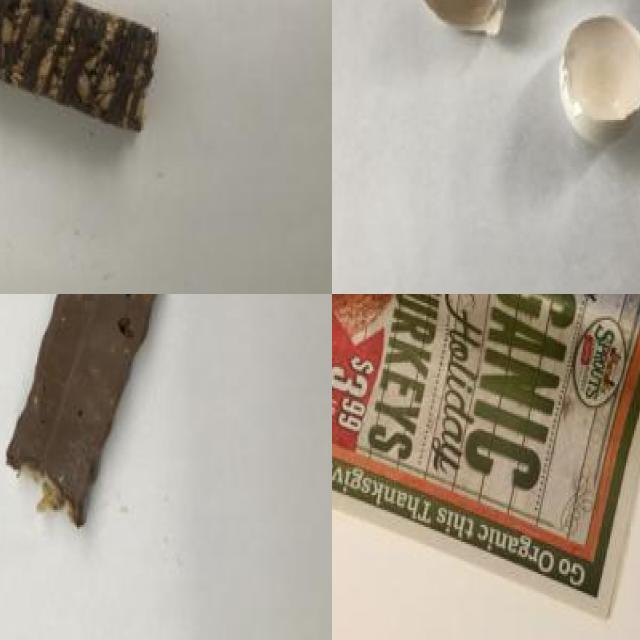compost: (0, 294, 194, 546), (418, 0, 640, 171), (0, 0, 172, 146)
paper: (332, 294, 640, 605)
